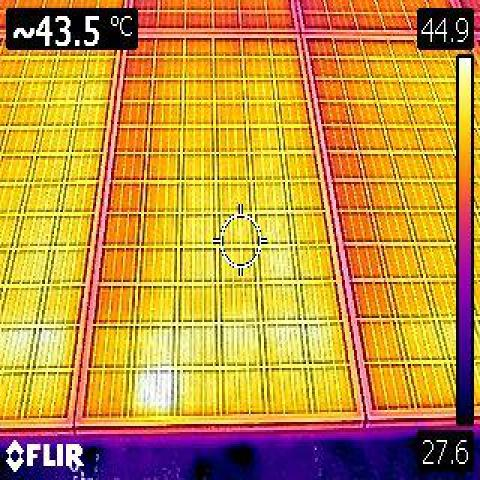fault: (134, 366, 175, 416)
